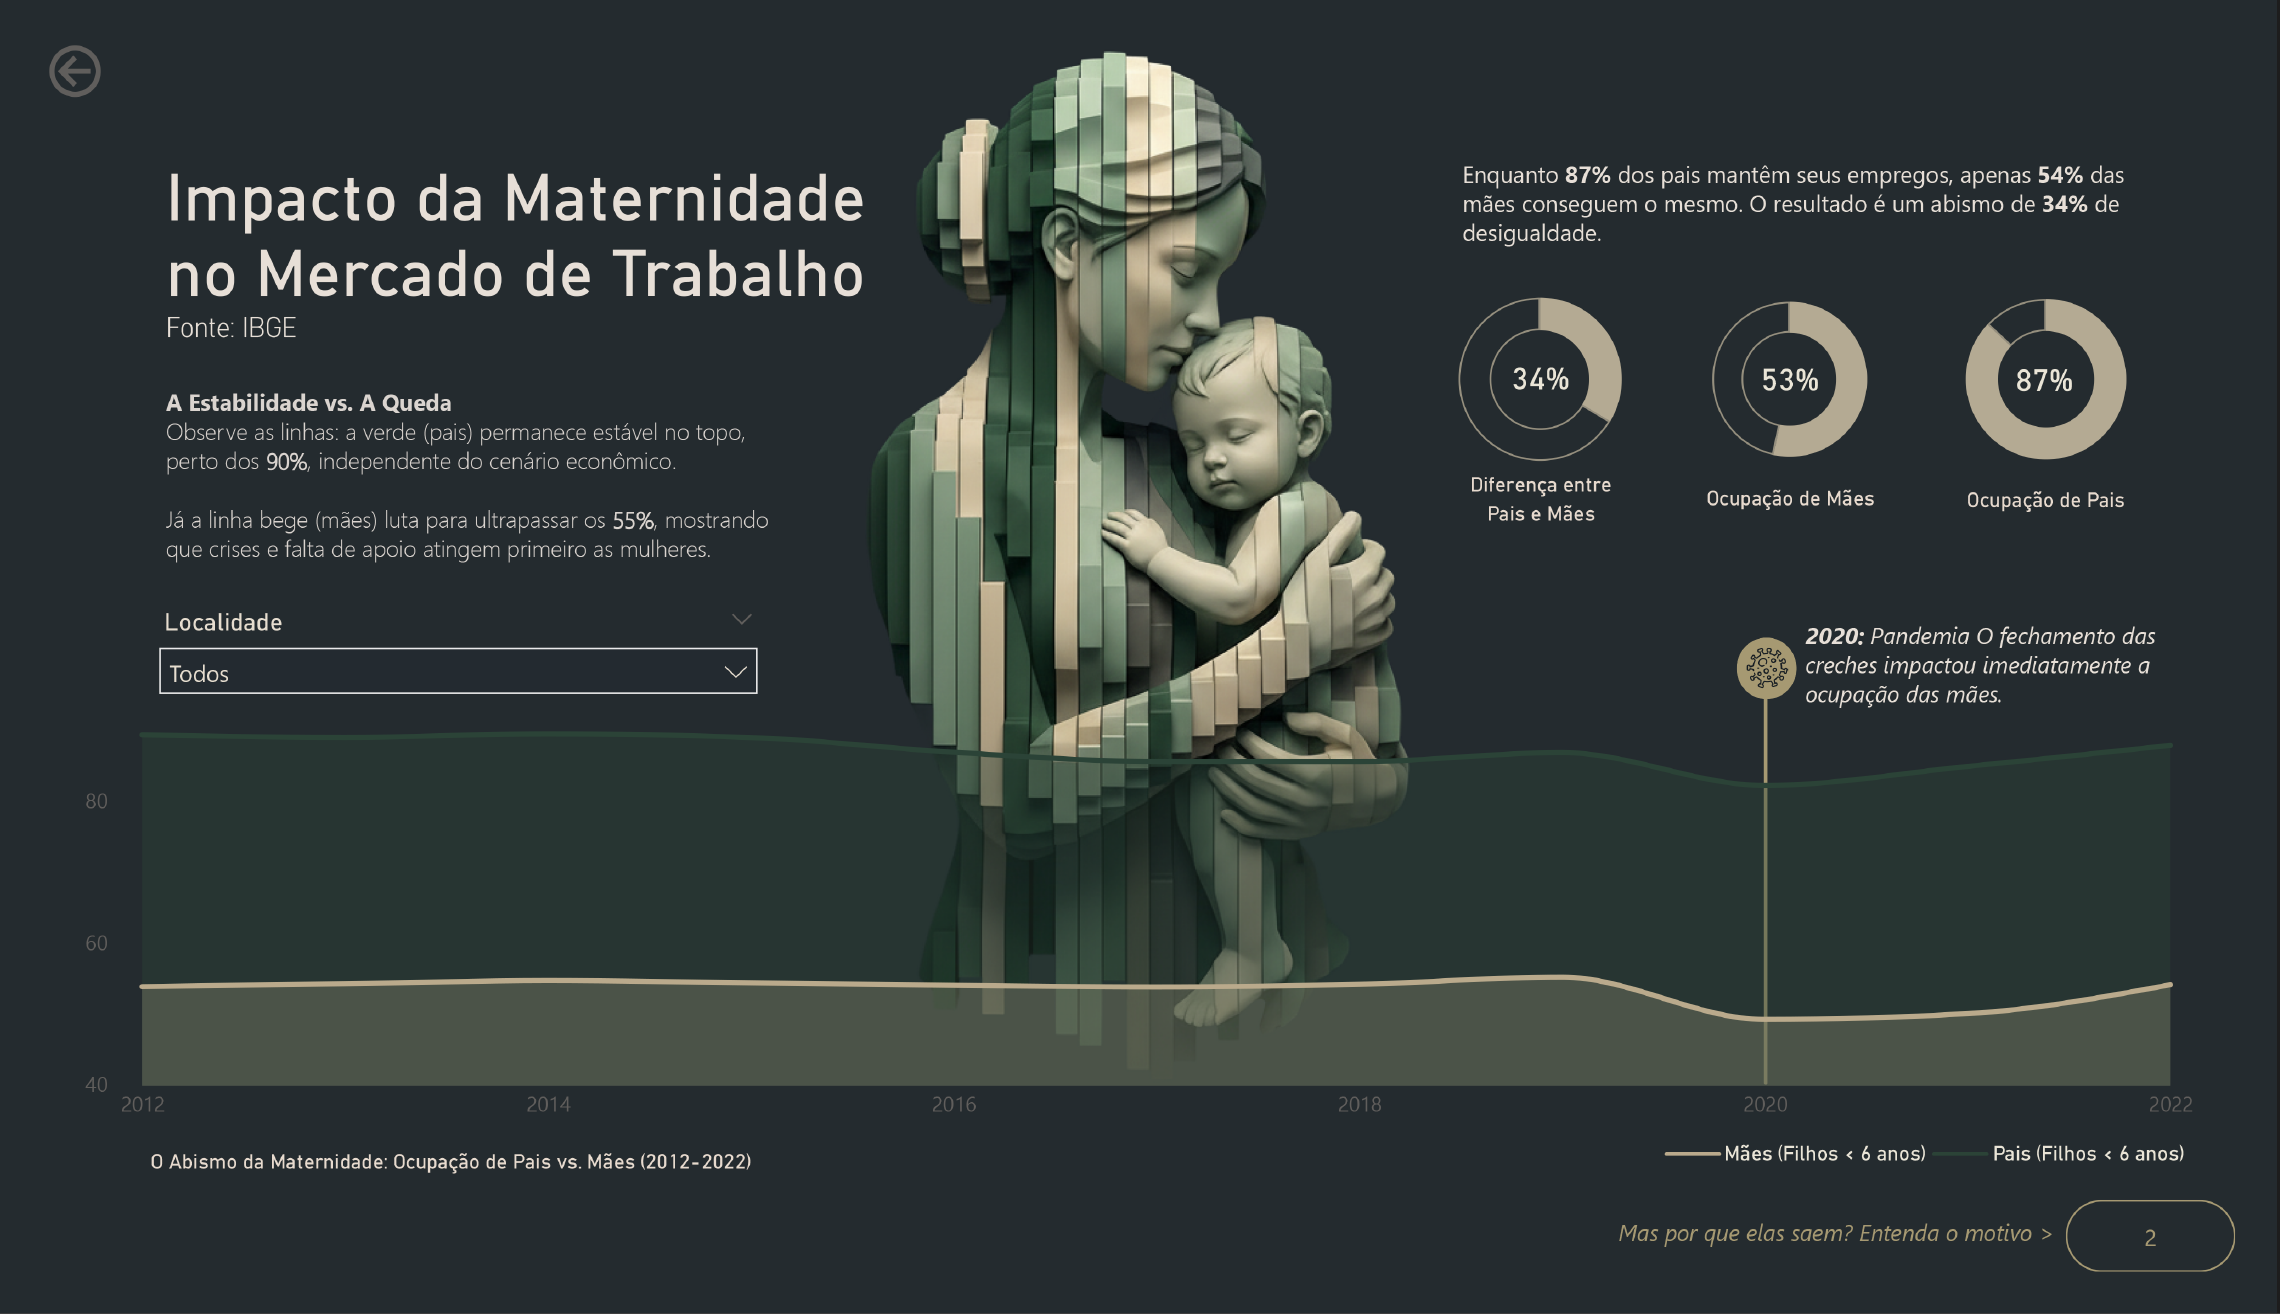

What the dashboard file says about the page in this screenshot:
{"tool":"powerbi","page":{"name":"1","canvas":[1280,720],"ordinal":0},"visuals":[{"type":"image","box":[466.2,6.2,347.5,605],"z":0},{"type":"group","id":"g1","title":"Grupo 1","box":[803.8,134.7,141.4,157.6],"z":0,"group":"g4"},{"type":"group","id":"g2","title":"Grupo 2","box":[946.2,137.6,148.3,148.7],"z":1000,"group":"g4"},{"type":"slicer","fields":{"Values":["IBGE_Horas_Afazeres_Domesticos_UF.Localidade"]},"box":[58.8,327.5,368.8,58.8],"z":1000},{"type":"actionButton","box":[0,0,100,40],"z":2000},{"type":"group","id":"g3","title":"Grupo 3","box":[1104.7,135.3,128.6,151.2],"z":2000,"group":"g4"},{"type":"donutChart","fields":{"Y":["IBGE_Ocupacao_Presenca_Criancas_UF.Ocupacao_Pais","IBGE_Ocupacao_Presenca_Criancas_UF.Ocupacao_Pais_Restante"]},"box":[1104.7,135.3,128.6,127.5],"z":2000,"group":"g3"},{"type":"textbox","box":[58.8,641.2,385,32.5],"z":3000},{"type":"textbox","box":[67.5,66.2,446.2,125],"z":4000},{"type":"donutChart","fields":{"Y":["IBGE_Ocupacao_Presenca_Criancas_UF.Ocupacao_Maes","IBGE_Ocupacao_Presenca_Criancas_UF.Ocupacao_Maes_Restante"]},"box":[946.2,137.6,148.3,122.8],"z":5000,"group":"g2"},{"type":"textbox","box":[67.5,198.8,376.2,122.5],"z":5000},{"type":"group","id":"g4","title":"Grupo 4","box":[803.8,134.7,430,158.8],"z":6000},{"type":"donutChart","fields":{"Y":["IBGE_Ocupacao_Presenca_Criancas_UF.Gap_Ocupacao_Abs","IBGE_Ocupacao_Presenca_Criancas_UF.Gap_Ocupacao_Restante"]},"box":[803.8,134.7,141.4,128.6],"z":7000,"group":"g1"},{"type":"shape","box":[961.2,361.2,90,250],"z":7000},{"type":"textbox","box":[1023.8,335,218.8,67.5],"z":8000},{"type":"shape","box":[988.8,350,35,36.2],"z":9000},{"type":"card","fields":{"Values":["IBGE_Ocupacao_Presenca_Criancas_UF.Ocupacao_Pais"]},"box":[1138.7,175.2,59.1,48.7],"z":10000,"group":"g3"},{"type":"image","box":[990,356.2,32.5,23.8],"z":10000},{"type":"textbox","box":[823.8,66.5,403.8,71.2],"z":11000},{"type":"card","fields":{"Values":["IBGE_Ocupacao_Presenca_Criancas_UF.Gap_Ocupacao"]},"box":[841.5,167.1,66,64.9],"z":11000,"group":"g1"},{"type":"textbox","box":[1110.5,254,117,32.4],"z":12000,"group":"g3"},{"type":"pageNavigator","box":[1181.2,677.5,98.8,42.5],"z":12000},{"type":"card","fields":{"Values":["IBGE_Ocupacao_Presenca_Criancas_UF.Ocupacao_Maes"]},"box":[988.5,170.5,63.7,57.9],"z":13000,"group":"g2"},{"type":"textbox","box":[915,682.5,266.2,32.5],"z":13000},{"type":"textbox","box":[961.8,253.9,117,32.4],"z":14000,"group":"g2"},{"type":"areaChart","fields":{"Category":["IBGE_Ocupacao_Presenca_Criancas_UF.Ano"],"Y":["Avg(IBGE_Ocupacao_Presenca_Criancas_UF.Total_Com_Filhos_Mulher)","Avg(IBGE_Ocupacao_Presenca_Criancas_UF.Total_Com_Filhos_Homem)"]},"box":[0,390,1260,280],"z":14000},{"type":"textbox","box":[816.5,245.9,115.9,46.3],"z":15000,"group":"g1"}]}

Visuals, with their boxes in screenshot pixels (x1, y1, x2, y2), scaled from the page's 1280x720 canvas onto the 2280x1314 screenshot:
image: (x1=830, y1=11, x2=1449, y2=1115)
"Grupo 1" group: (x1=1432, y1=246, x2=1684, y2=533)
"Grupo 2" group: (x1=1685, y1=251, x2=1950, y2=522)
slicer - IBGE_Horas_Afazeres_Domesticos_UF.Localidade: (x1=105, y1=598, x2=762, y2=705)
actionButton: (x1=0, y1=0, x2=178, y2=73)
"Grupo 3" group: (x1=1968, y1=247, x2=2197, y2=523)
donutChart - IBGE_Ocupacao_Presenca_Criancas_UF.Ocupacao_Pais x IBGE_Ocupacao_Presenca_Criancas_UF.Ocupacao_Pais_Restante: (x1=1968, y1=247, x2=2197, y2=480)
textbox: (x1=105, y1=1170, x2=791, y2=1230)
textbox: (x1=120, y1=121, x2=915, y2=349)
donutChart - IBGE_Ocupacao_Presenca_Criancas_UF.Ocupacao_Maes x IBGE_Ocupacao_Presenca_Criancas_UF.Ocupacao_Maes_Restante: (x1=1685, y1=251, x2=1950, y2=475)
textbox: (x1=120, y1=363, x2=790, y2=586)
"Grupo 4" group: (x1=1432, y1=246, x2=2198, y2=536)
donutChart - IBGE_Ocupacao_Presenca_Criancas_UF.Gap_Ocupacao_Abs x IBGE_Ocupacao_Presenca_Criancas_UF.Gap_Ocupacao_Restante: (x1=1432, y1=246, x2=1684, y2=481)
shape: (x1=1712, y1=659, x2=1872, y2=1115)
textbox: (x1=1824, y1=611, x2=2213, y2=735)
shape: (x1=1761, y1=639, x2=1824, y2=705)
card - IBGE_Ocupacao_Presenca_Criancas_UF.Ocupacao_Pais: (x1=2028, y1=320, x2=2134, y2=409)
image: (x1=1763, y1=650, x2=1821, y2=694)
textbox: (x1=1467, y1=121, x2=2187, y2=251)
card - IBGE_Ocupacao_Presenca_Criancas_UF.Gap_Ocupacao: (x1=1499, y1=305, x2=1616, y2=423)
textbox: (x1=1978, y1=464, x2=2186, y2=523)
pageNavigator: (x1=2104, y1=1236, x2=2279, y2=1313)
card - IBGE_Ocupacao_Presenca_Criancas_UF.Ocupacao_Maes: (x1=1761, y1=311, x2=1874, y2=417)
textbox: (x1=1630, y1=1246, x2=2104, y2=1305)
textbox: (x1=1713, y1=463, x2=1922, y2=522)
areaChart - IBGE_Ocupacao_Presenca_Criancas_UF.Ano x Avg(IBGE_Ocupacao_Presenca_Criancas_UF.Total_Com_Filhos_Mulher): (x1=0, y1=712, x2=2244, y2=1223)
textbox: (x1=1454, y1=449, x2=1661, y2=533)
